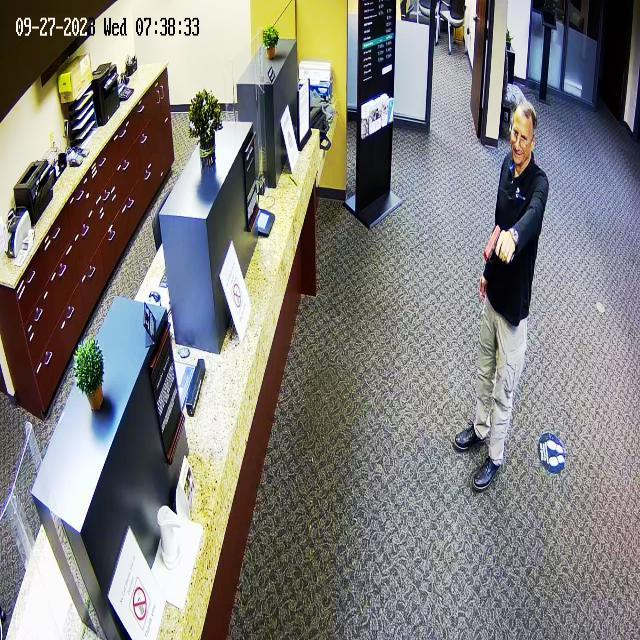Gun: (481, 221, 519, 267)
